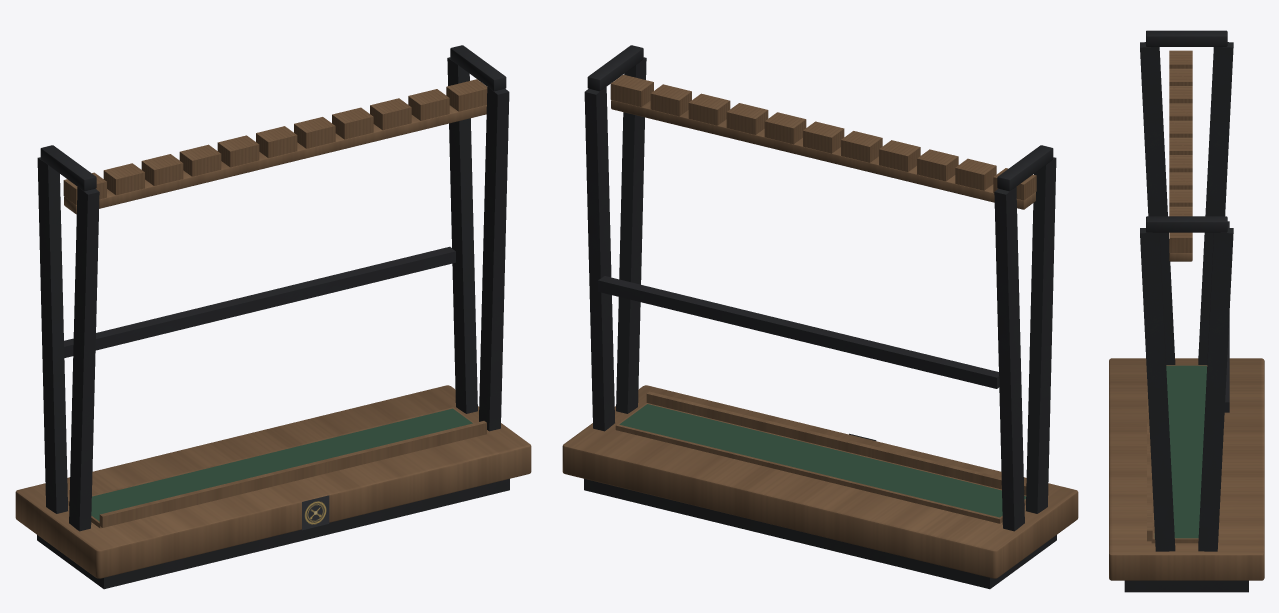
The model's file is club_rack.glb.
The picture shows the model from 3 angles, left to right: view 1: azimuth 30°, elevation 25°; view 2: azimuth 150°, elevation 25°; view 3: azimuth 270°, elevation 25°; orthographic projection. The views are drawn at different scales.
Parts seen in each view (by area): view 1: Base, End_Bar_Lb, End_Bar_La, End_Bar_Ra, Trough_Felt, End_Bar_Rb, Cross_Brace, Trough_Lip, Base_Kick, Head_Rail, End_Cap_R, End_Cap_L (+12 smaller); view 2: Base, Trough_Felt, End_Bar_La, End_Bar_Lb, End_Bar_Rb, Cross_Brace, End_Bar_Ra, Base_Kick, Trough_Lip, Head_Rail, Trough_Floor, End_Cap_R (+11 smaller); view 3: Base, End_Bar_Rb, End_Bar_Ra, Trough_Felt, End_Bar_Lb, End_Bar_La, Base_Kick, End_Cap_L, End_Cap_R, Trough_Lip, Head_Tooth_10, Head_Tooth_00 (+11 smaller).
Boxes of the visible parts, box(x1,y1,x2,y2) form: Base: box(15, 385, 531, 578); End_Bar_Lb: box(37, 157, 67, 513); End_Bar_La: box(69, 187, 99, 531); End_Bar_Ra: box(479, 87, 509, 431); Trough_Felt: box(91, 408, 472, 521); End_Bar_Rb: box(447, 57, 477, 413); Cross_Brace: box(64, 246, 455, 357); Trough_Lip: box(99, 421, 486, 527); Base_Kick: box(37, 479, 509, 589); Head_Rail: box(64, 105, 486, 214); End_Cap_R: box(450, 45, 506, 91); End_Cap_L: box(40, 145, 96, 191); Base: box(562, 385, 1078, 578); Trough_Felt: box(619, 404, 1026, 517); End_Bar_La: box(1026, 157, 1056, 513); End_Bar_Lb: box(994, 187, 1024, 531); End_Bar_Rb: box(584, 87, 614, 431); Cross_Brace: box(598, 276, 999, 388); End_Bar_Ra: box(616, 57, 646, 413); Base_Kick: box(584, 479, 1056, 589); Trough_Lip: box(646, 391, 1026, 495); Head_Rail: box(611, 100, 1035, 209); Trough_Floor: box(615, 403, 1026, 523); End_Cap_R: box(587, 45, 643, 91); Base: box(1109, 358, 1264, 580); End_Bar_Rb: box(1198, 228, 1233, 551); End_Bar_Ra: box(1140, 228, 1175, 551); Trough_Felt: box(1154, 365, 1206, 538); End_Bar_Lb: box(1198, 42, 1233, 364); End_Bar_La: box(1140, 42, 1175, 364); Base_Kick: box(1124, 580, 1248, 592); End_Cap_L: box(1146, 30, 1227, 46); End_Cap_R: box(1146, 216, 1227, 232); Trough_Lip: box(1147, 379, 1152, 541); Head_Tooth_10: box(1169, 232, 1192, 252); Head_Tooth_00: box(1169, 50, 1192, 68).
Bounding box in the file's own units: 1.2 × 1.1 × 0.4012.
6 materials, 4 textured.
